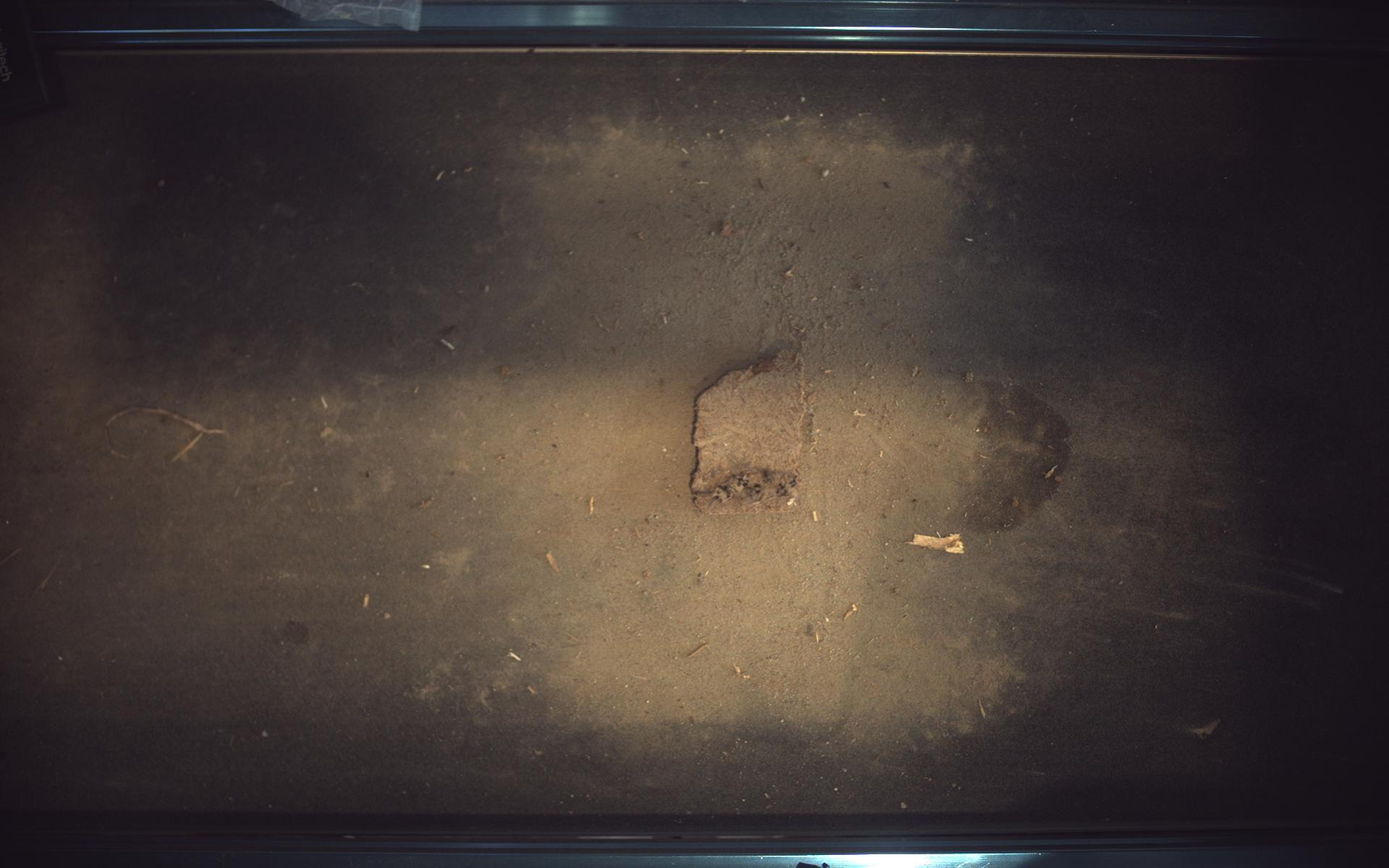wood: (692, 350, 810, 515)
